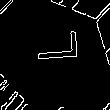L_W: (28, 40, 80, 74)
